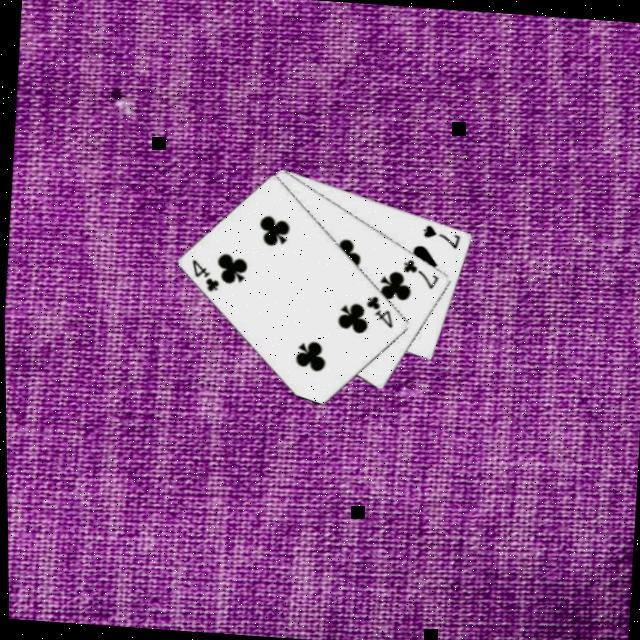4C: (185, 256, 222, 296), (359, 292, 395, 331)
7C: (396, 256, 441, 293)
7S: (417, 222, 462, 252)
